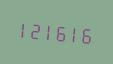one: (17, 16, 29, 41), (44, 18, 56, 43), (70, 21, 82, 46)
six: (57, 20, 69, 45), (83, 22, 95, 47)
two: (30, 17, 42, 42)
